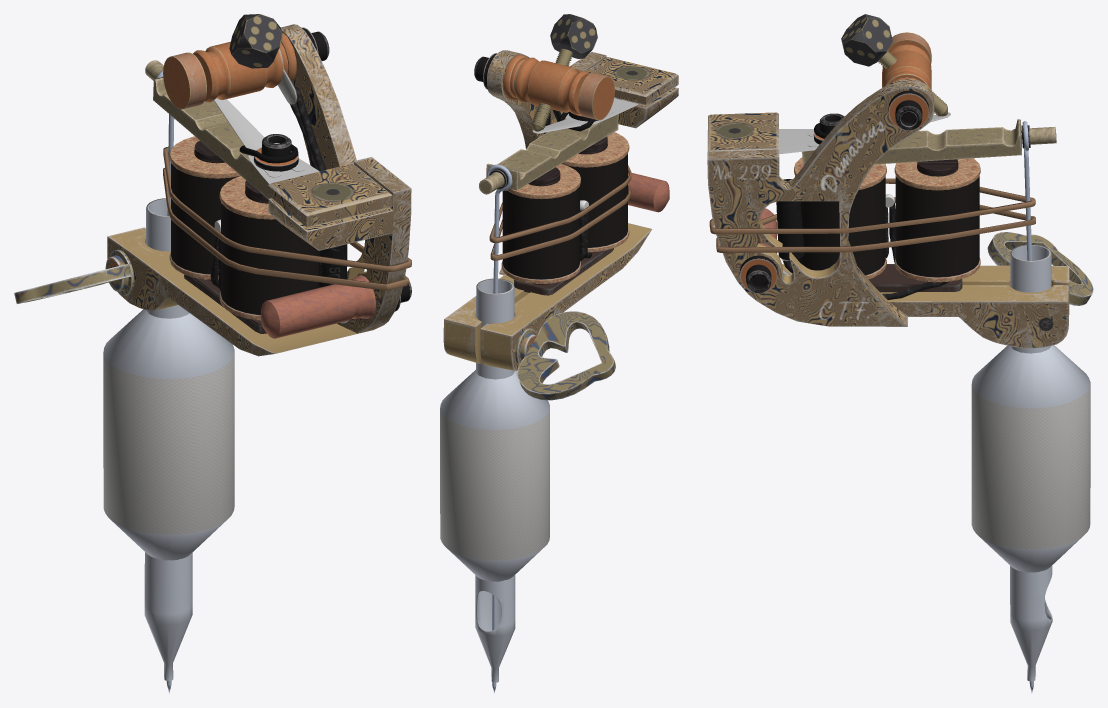
Rendered from damascus_coil_tattoo_machine__gap_assignment_2.glb.
The picture shows the model from 3 angles, left to right: view 1: azimuth 30°, elevation 25°; view 2: azimuth 150°, elevation 25°; view 3: azimuth 270°, elevation 25°; orthographic projection. The views are drawn at different scales.
Visible parts, largest first — view 1: cylinder_low, pasted__frame_low, pasted__coil1_low, pasted__ring1_low, polySurface3_low, pasted__tube2_low, pasted__bolt_low, pasted__plate2_low, pasted__knob_low, pasted__cube_low, pasted__rubberband2_low, pasted__rubberband1_low (+6 smaller); view 2: cylinder_low, pasted__coil1_low, pasted__frame_low, pasted__knob_low, pasted__ring1_low, pasted__plate2_low, pasted__tube2_low, polySurface3_low, pasted__tube_low, pasted__cube_low, pasted__bolt_low, pasted__rubberband1_low (+7 smaller); view 3: pasted__frame_low, cylinder_low, pasted__coil1_low, pasted__plate2_low, pasted__tube2_low, polySurface3_low, pasted__rubberband2_low, pasted__rubberband1_low, pasted__knob_low, pasted__ring1_low, pasted__tube_low, pasted__cube_low (+6 smaller).
Boxes of the visible parts, x1,y1,x2,y2 form: cylinder_low: (103,309,234,560); pasted__frame_low: (107,24,411,356); pasted__coil1_low: (169,136,320,320); pasted__ring1_low: (163,33,297,109); polySurface3_low: (267,163,392,227); pasted__tube2_low: (144,552,192,680); pasted__bolt_low: (260,275,375,338); pasted__plate2_low: (153,77,271,199); pasted__knob_low: (14,249,134,303); pasted__cube_low: (229,14,282,68); pasted__rubberband2_low: (163,167,409,290); pasted__rubberband1_low: (163,147,411,271); cylinder_low: (440,370,549,581); pasted__coil1_low: (501,132,629,284); pasted__frame_low: (443,50,678,371); pasted__knob_low: (515,311,615,400); pasted__ring1_low: (503,54,614,120); pasted__plate2_low: (486,114,618,190); pasted__tube2_low: (475,575,515,682); polySurface3_low: (587,57,678,105); pasted__tube_low: (476,278,514,379); pasted__cube_low: (550,14,597,58); pasted__bolt_low: (628,172,669,212); pasted__rubberband1_low: (489,165,631,243); pasted__frame_low: (707,79,1069,348); cylinder_low: (971,345,1090,572); pasted__coil1_low: (794,157,980,282); pasted__plate2_low: (802,119,1021,166); pasted__tube2_low: (1010,565,1052,681); polySurface3_low: (708,112,778,151); pasted__rubberband2_low: (716,197,1035,253); pasted__rubberband1_low: (709,178,1035,234); pasted__knob_low: (987,232,1093,305); pasted__ring1_low: (882,32,931,89); pasted__tube_low: (1010,244,1051,353); pasted__cube_low: (841,14,892,66).
Size of the model in its own units: 199 by 609 by 316.
1 material, 1 textured.
